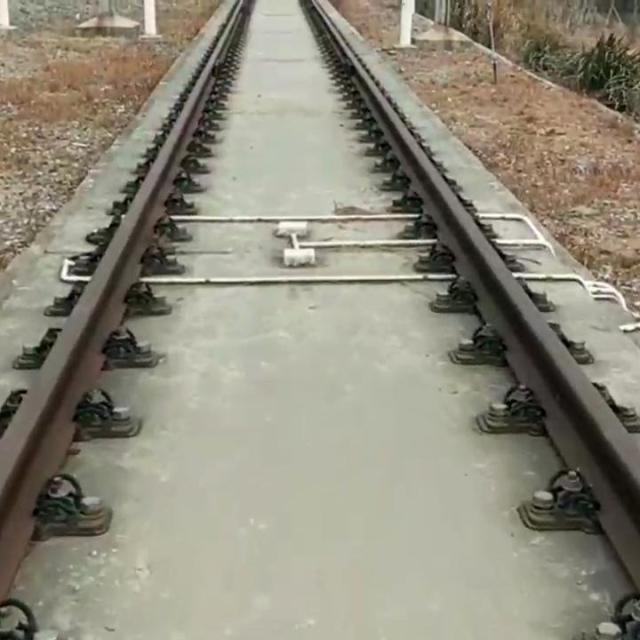rail: (308, 1, 640, 588), (1, 0, 250, 600)
